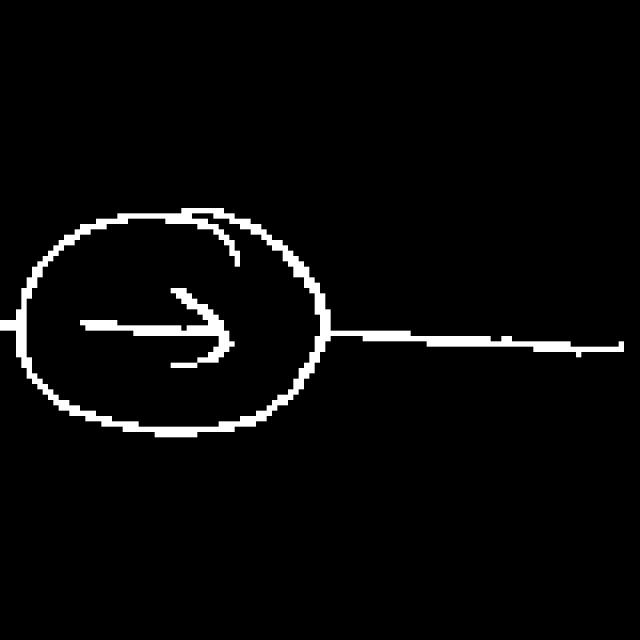current_source: (9, 193, 345, 446)
